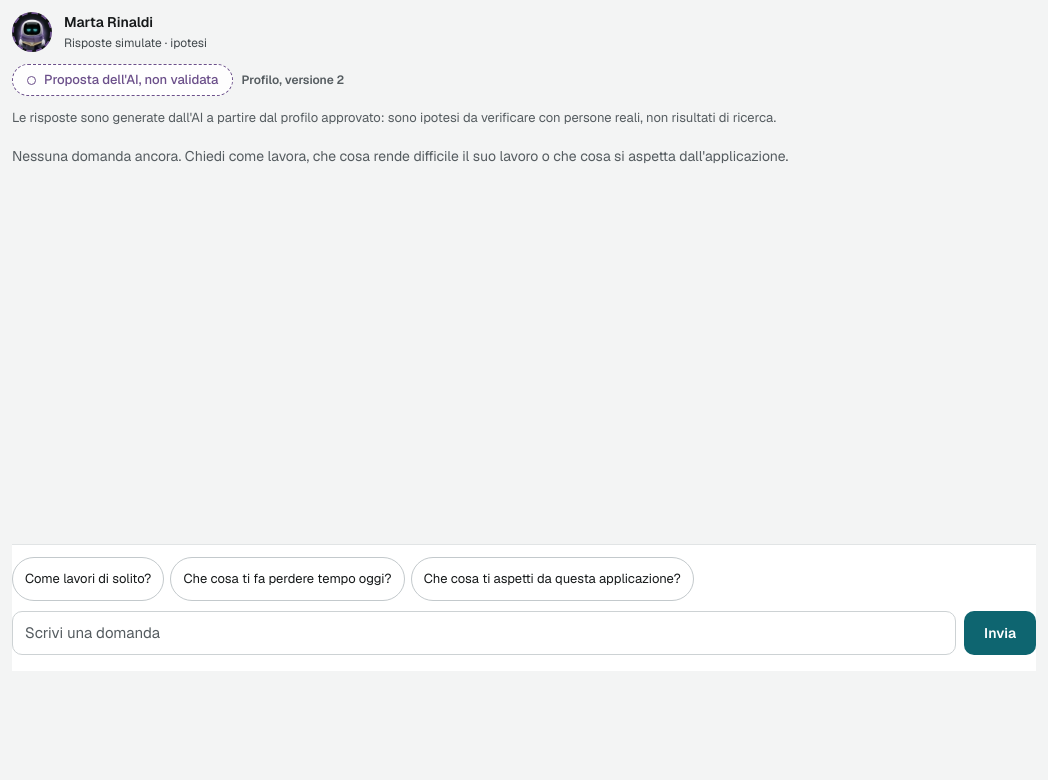
Scenario: twin chat panel › shows the request error without losing the question
Type "Cosa ti frustra?" into the text box with test id "twin-chat-question" at (484,633), box [12, 610, 956, 655]
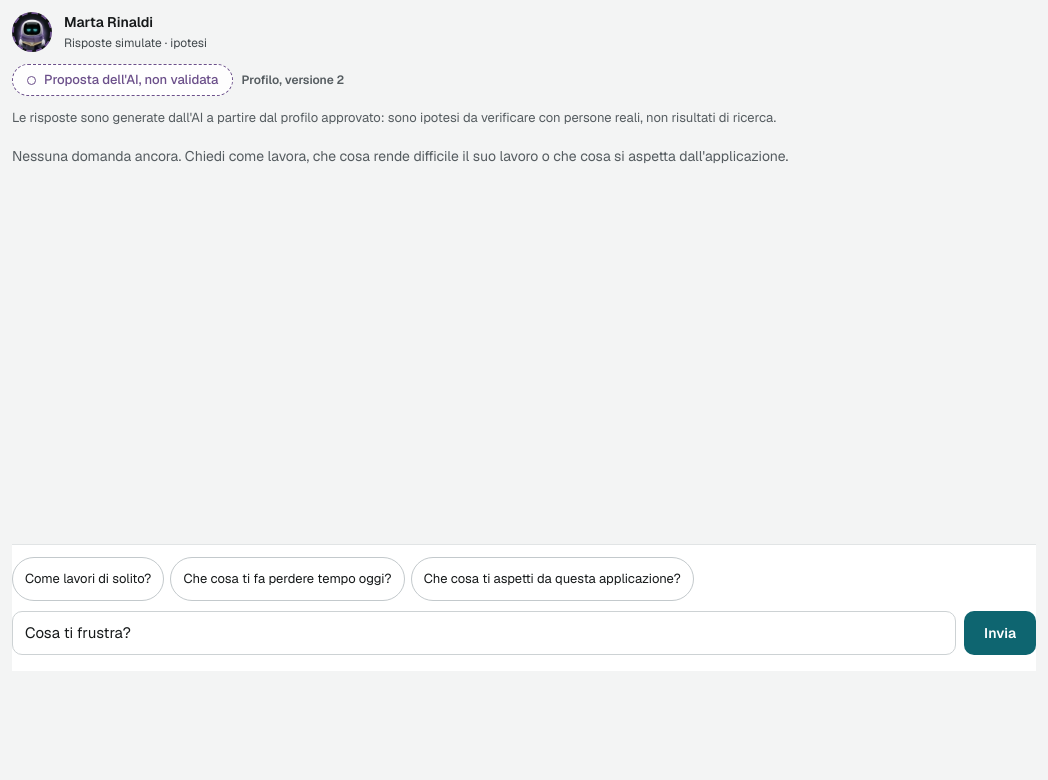
Submit the form
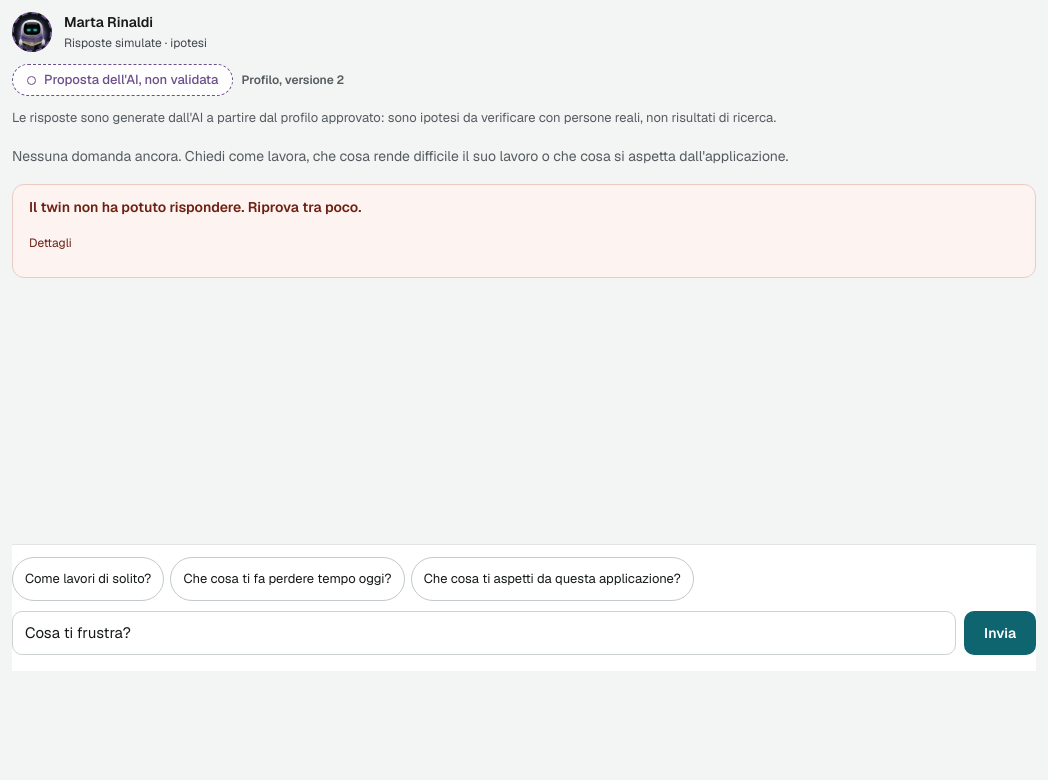
Expected: the text "Il twin non ha potuto rispondere. Riprova tra poco." is shown, [29, 198, 361, 216]
